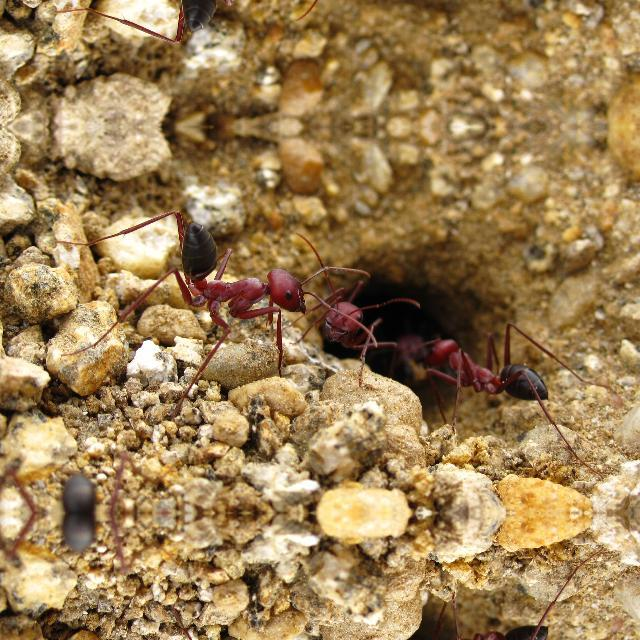Cataglyphis: (115, 202, 349, 342), (397, 322, 577, 416), (115, 0, 349, 50), (0, 512, 150, 582), (0, 442, 150, 511), (297, 254, 387, 362), (373, 307, 452, 389), (397, 608, 577, 640)
